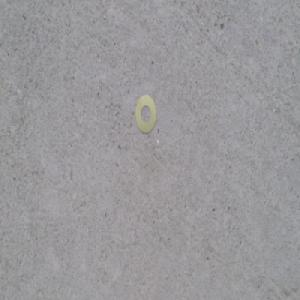Washer: (135, 95, 157, 137)
